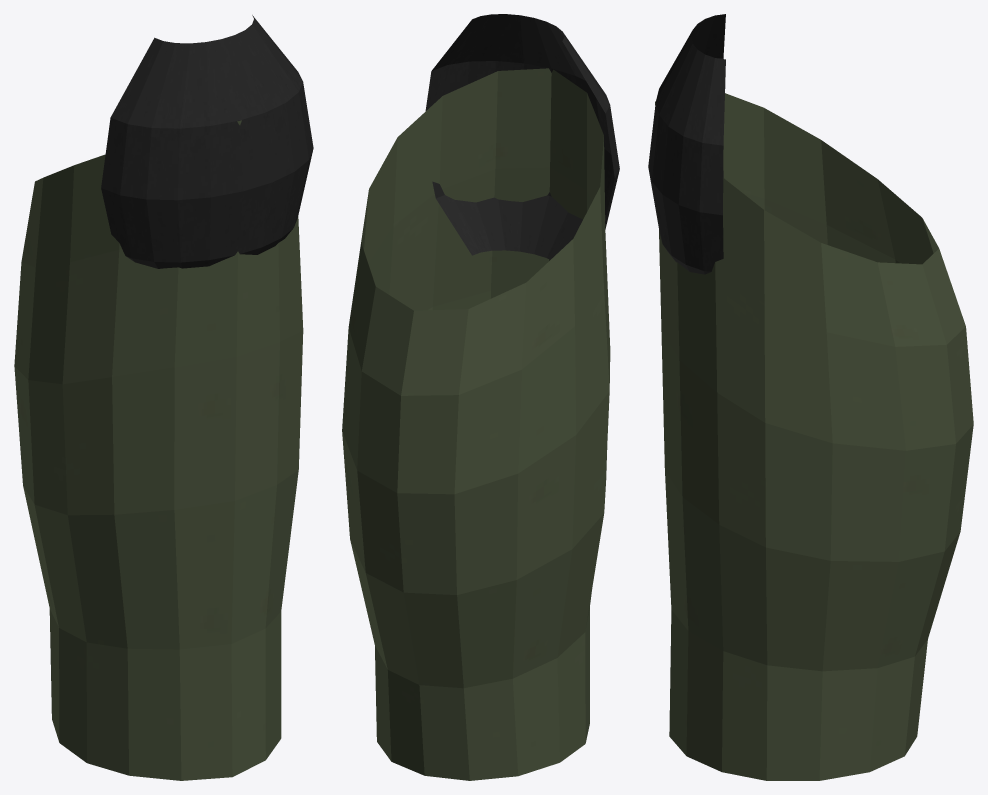
The model's file is eq_present_1_leg.glb.
3 views of the same model, side by side, from view 1: azimuth 30°, elevation 25°; view 2: azimuth 150°, elevation 25°; view 3: azimuth 270°, elevation 25° (orthographic). The views are drawn at different scales.
Visible parts, largest first — view 1: eq_present_1_leg; view 2: eq_present_1_leg; view 3: eq_present_1_leg.
Part boxes in pixels (x1,y1,x2,y2): eq_present_1_leg: [14, 15, 313, 780]; eq_present_1_leg: [342, 14, 619, 780]; eq_present_1_leg: [648, 14, 973, 780].
Bounding box in the file's own units: 0.1479 × 0.43 × 0.1813.
2 materials, 2 textured.
